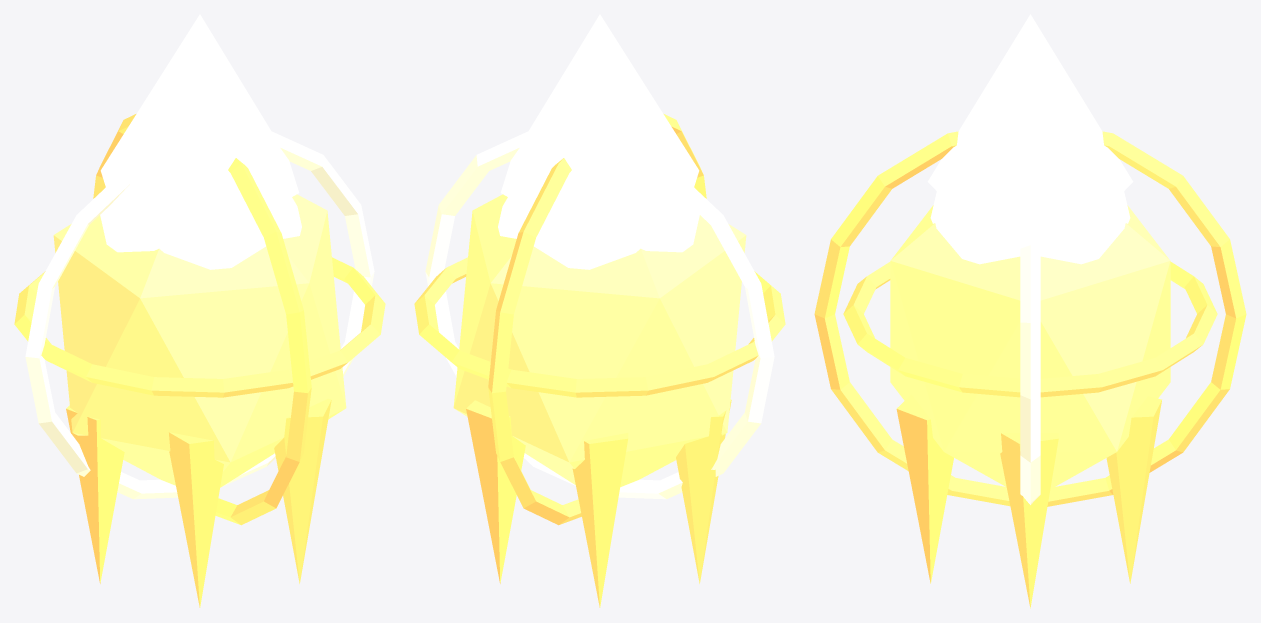
Rendered from nova_cannon_bolt.glb.
3 renders of one model, left to right at view 1: azimuth 30°, elevation 25°; view 2: azimuth 150°, elevation 25°; view 3: azimuth 270°, elevation 25°, orthographic.
Visible parts, largest first — view 1: NovaDenseShell, NovaImpactNose, NovaContainmentRing_1, NovaContainmentRing_0, NovaContainmentRing_2, NovaPlasmaCore, NovaWake_4, NovaWake_3, NovaWake_5; view 2: NovaDenseShell, NovaImpactNose, NovaContainmentRing_1, NovaContainmentRing_0, NovaContainmentRing_2, NovaPlasmaCore, NovaWake_2, NovaWake_1, NovaWake_3; view 3: NovaDenseShell, NovaImpactNose, NovaContainmentRing_2, NovaContainmentRing_0, NovaPlasmaCore, NovaContainmentRing_1, NovaWake_5, NovaWake_1, NovaWake_0.
Part boxes in pixels (x1=…): NovaDenseShell: x1=53, y1=194, x2=346, y2=487; NovaImpactNose: x1=100, y1=14, x2=299, y2=223; NovaContainmentRing_1: x1=25, y1=131, x2=374, y2=499; NovaContainmentRing_0: x1=14, y1=257, x2=385, y2=397; NovaContainmentRing_2: x1=93, y1=114, x2=311, y2=525; NovaPlasmaCore: x1=100, y1=197, x2=301, y2=269; NovaWake_4: x1=169, y1=432, x2=223, y2=607; NovaWake_3: x1=66, y1=405, x2=124, y2=583; NovaWake_5: x1=274, y1=399, x2=331, y2=583; NovaDenseShell: x1=453, y1=194, x2=746, y2=486; NovaImpactNose: x1=500, y1=14, x2=699, y2=223; NovaContainmentRing_1: x1=425, y1=131, x2=774, y2=499; NovaContainmentRing_0: x1=414, y1=257, x2=785, y2=397; NovaContainmentRing_2: x1=488, y1=114, x2=706, y2=525; NovaPlasmaCore: x1=498, y1=197, x2=699, y2=269; NovaWake_2: x1=572, y1=433, x2=628, y2=607; NovaWake_1: x1=466, y1=400, x2=525, y2=583; NovaWake_3: x1=676, y1=399, x2=731, y2=583; NovaDenseShell: x1=890, y1=205, x2=1170, y2=489; NovaImpactNose: x1=927, y1=14, x2=1133, y2=223; NovaContainmentRing_2: x1=814, y1=131, x2=1246, y2=506; NovaContainmentRing_0: x1=843, y1=262, x2=1217, y2=397; NovaPlasmaCore: x1=930, y1=191, x2=1130, y2=264; NovaContainmentRing_1: x1=1020, y1=184, x2=1040, y2=504; NovaWake_5: x1=896, y1=394, x2=953, y2=583; NovaWake_1: x1=1106, y1=396, x2=1161, y2=583; NovaWake_0: x1=1000, y1=433, x2=1058, y2=608.
Bounding box in the file's own units: 0.98 × 1.46 × 1.05.
